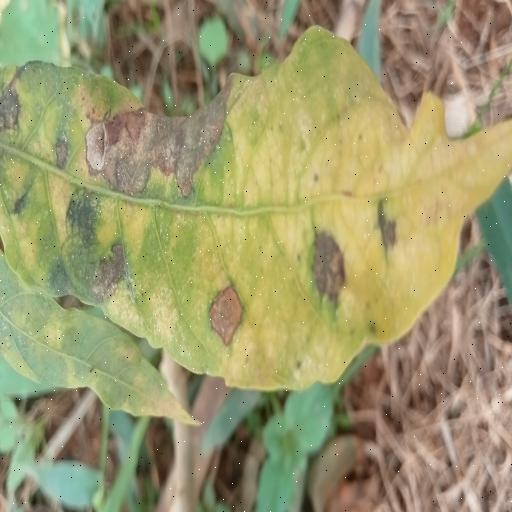Cassava_Brown_Leaf_Spot: (0, 23, 512, 410)
